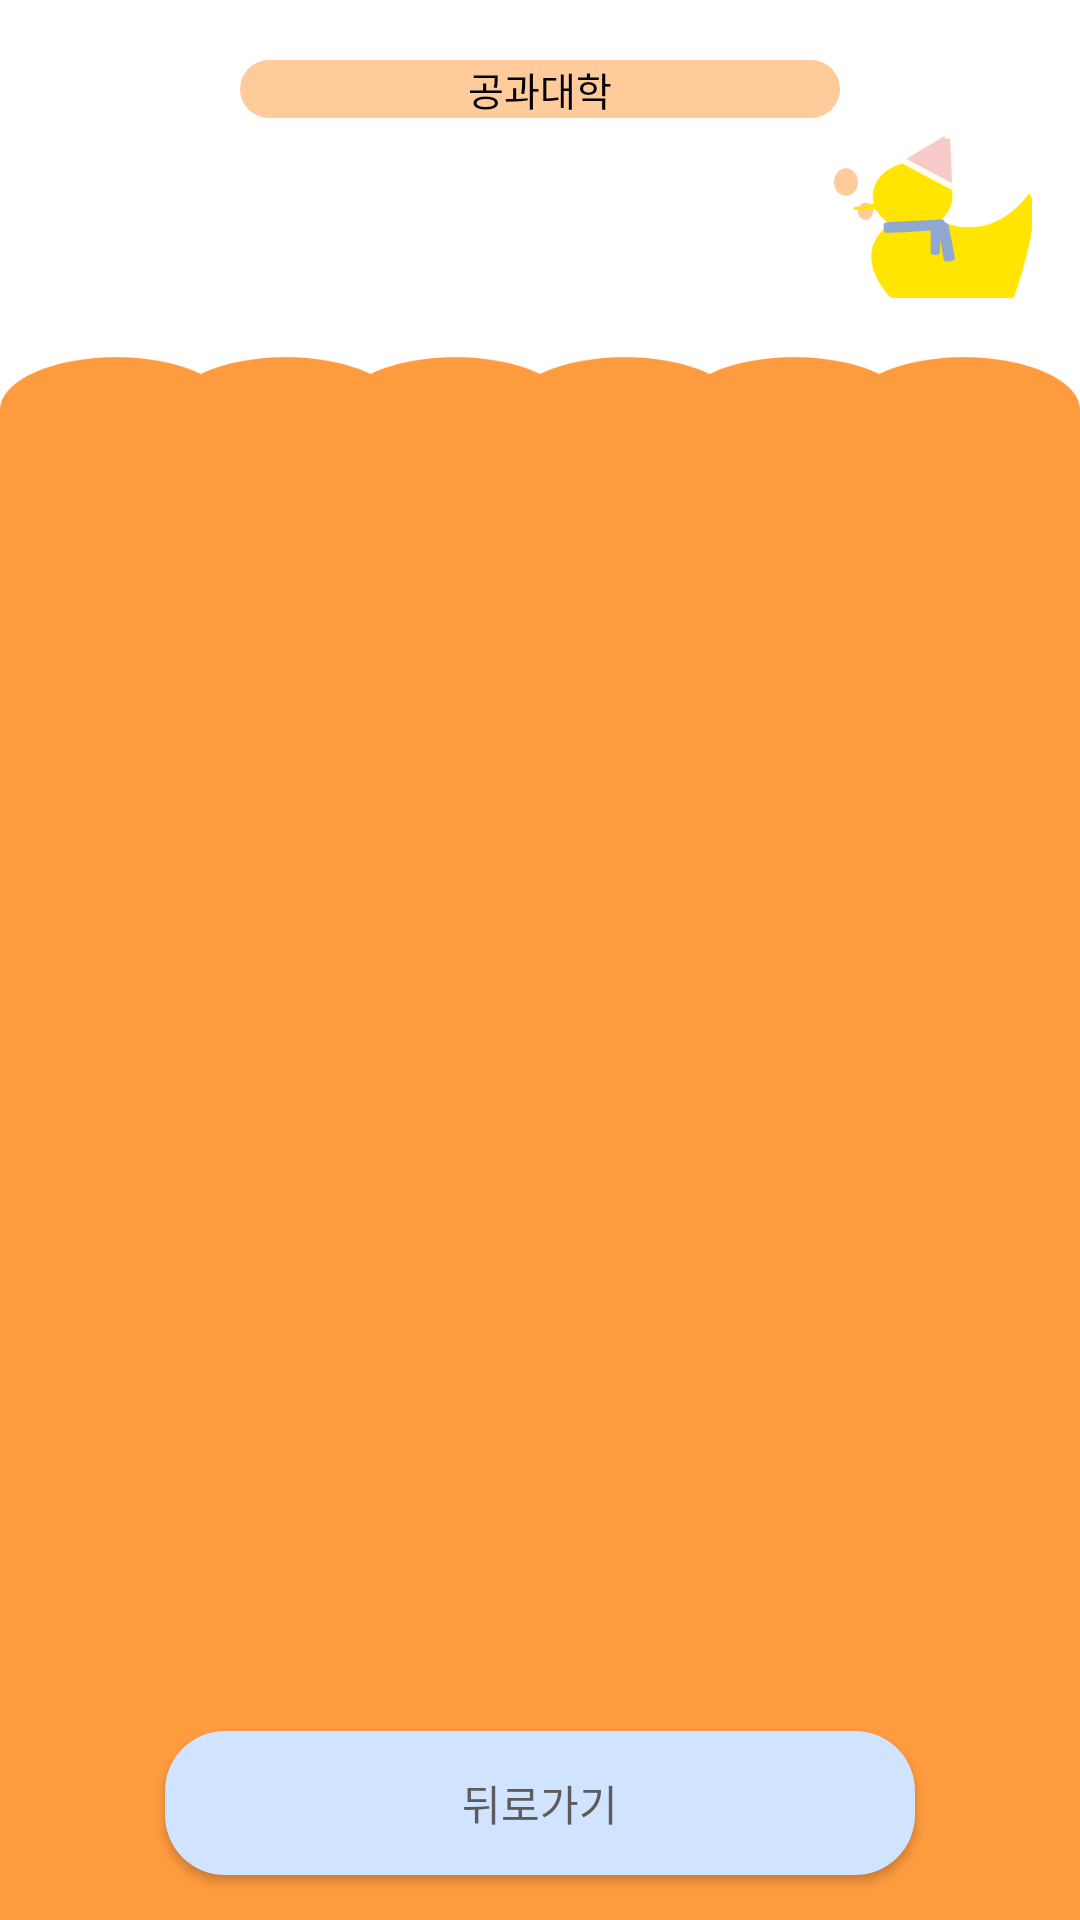

Point at icon controls on the screen. Image size 1080 x 1920, points as [x,y].
duckicon: [942,217]
